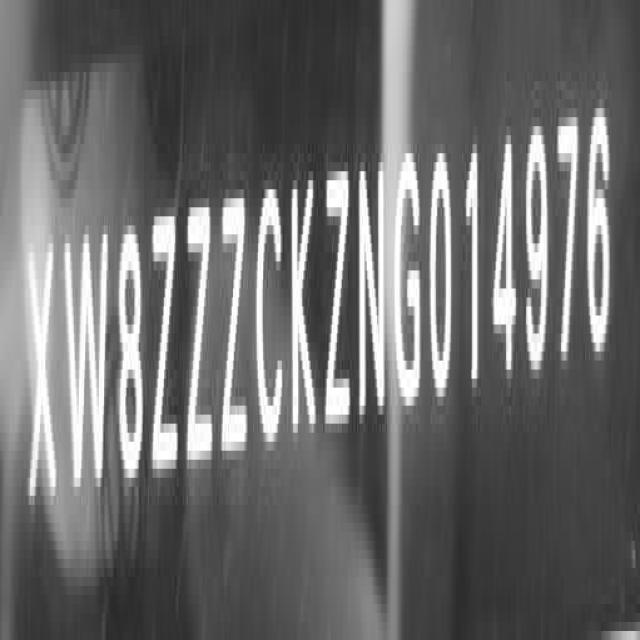0: (426, 147, 453, 411)
1: (460, 143, 480, 394)
4: (494, 120, 517, 387)
6: (586, 103, 612, 354)
7: (555, 84, 581, 388)
8: (118, 220, 145, 498)
9: (526, 110, 550, 401)
C: (257, 174, 287, 454)
G: (393, 154, 424, 414)
K: (290, 170, 318, 451)
N: (357, 134, 388, 430)
W: (64, 234, 112, 504)
X: (29, 230, 59, 528)
Z: (218, 187, 253, 457), (324, 137, 354, 447), (152, 204, 182, 481), (184, 204, 215, 464)
